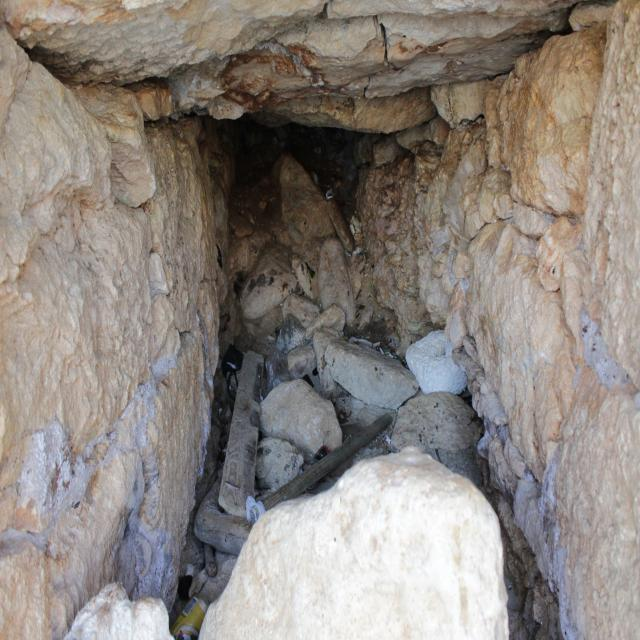Bottle: (304, 446, 331, 472)
Can: (171, 590, 209, 640)
Other litter: (244, 413, 391, 526), (221, 341, 243, 403)
Other plastic: (352, 331, 399, 361)
